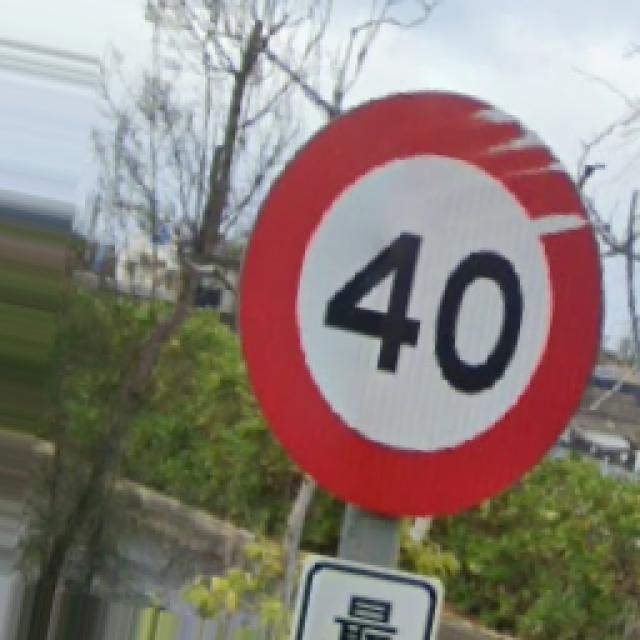Speed Limit -40-: (240, 92, 598, 515)
